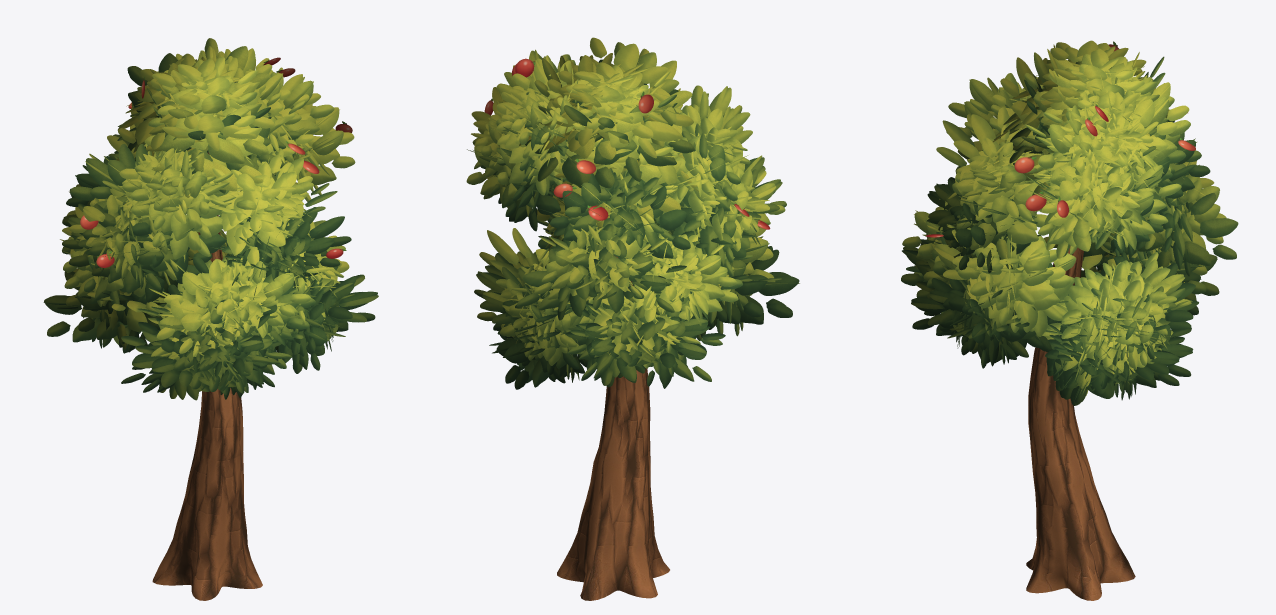
The model's file is tree_fruit.glb.
The picture shows the model from 3 angles, left to right: view 1: azimuth 30°, elevation 25°; view 2: azimuth 150°, elevation 25°; view 3: azimuth 270°, elevation 25°; orthographic projection. The views are drawn at different scales.
Visible parts, largest first — view 1: Canopy, tree_fruit; view 2: Canopy, tree_fruit; view 3: Canopy, tree_fruit.
Boxes of the visible parts, bbox=[...] form: Canopy: bbox=[43, 38, 378, 400]; tree_fruit: bbox=[152, 152, 262, 600]; Canopy: bbox=[466, 37, 799, 389]; tree_fruit: bbox=[557, 137, 669, 600]; Canopy: bbox=[901, 40, 1238, 405]; tree_fruit: bbox=[1026, 246, 1135, 600].
Bounding box in the file's own units: 1.21 × 1.9 × 1.25.
Materials: 3 (3 with a texture image).
